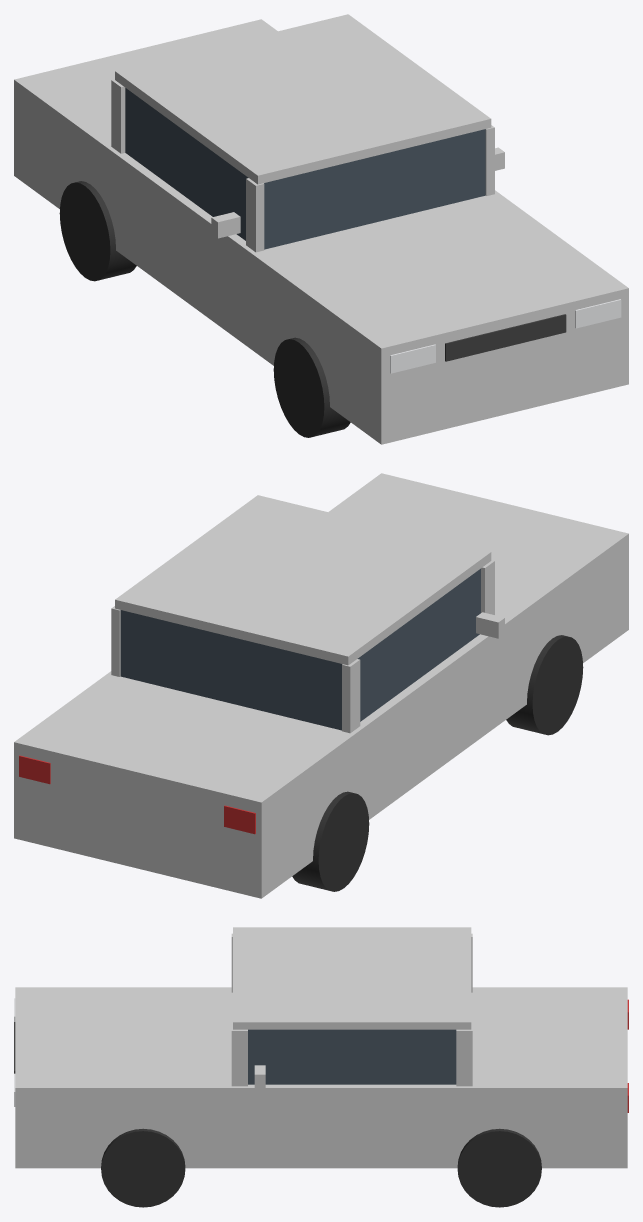
The model's file is placeholder-sedan.glb.
The picture shows the model from 3 angles, top to bottom: view 1: azimuth 30°, elevation 25°; view 2: azimuth 150°, elevation 25°; view 3: azimuth 270°, elevation 25°; orthographic projection. The views are drawn at different scales.
Visible parts, largest first — view 1: lataria, teto, vidros, roda_diant_d, roda_tras_d, grade, coluna_a_d, coluna_c_d, farol_e, farol_d, coluna_a_e, retrovisor_d; view 2: lataria, teto, vidros, roda_tras_d, roda_diant_d, coluna_c_d, coluna_a_d, lanterna_e, lanterna_d, coluna_c_e, retrovisor_d; view 3: lataria, teto, vidros, roda_diant_e, roda_tras_e, coluna_c_e, coluna_a_e.
Boxes of the visible parts, box(x1,y1,x2,y2) form: lataria: box(14, 19, 628, 444); teto: box(115, 14, 491, 184); vidros: box(125, 88, 485, 249); roda_diant_d: box(273, 337, 350, 437); roda_tras_d: box(59, 181, 136, 281); grade: box(445, 314, 566, 361); coluna_a_d: box(246, 178, 264, 252); coluna_c_d: box(111, 79, 125, 153); farol_e: box(575, 299, 621, 328); farol_d: box(390, 344, 435, 373); coluna_a_e: box(485, 125, 494, 195); retrovisor_d: box(211, 212, 240, 238); lataria: box(14, 473, 628, 898); teto: box(115, 495, 491, 665); vidros: box(120, 568, 480, 730); roda_tras_d: box(292, 791, 369, 891); roda_diant_d: box(506, 635, 583, 735); coluna_c_d: box(342, 659, 360, 733); coluna_a_d: box(481, 560, 494, 614); lanterna_e: box(19, 755, 50, 784); lanterna_d: box(224, 805, 255, 834); coluna_c_e: box(111, 606, 120, 676); retrovisor_d: box(476, 612, 504, 638); lataria: box(15, 987, 627, 1168); teto: box(233, 927, 471, 1029); vidros: box(248, 1029, 456, 1084); roda_diant_e: box(101, 1128, 185, 1207); roda_tras_e: box(457, 1128, 541, 1207); coluna_c_e: box(456, 1027, 472, 1086); coluna_a_e: box(231, 1027, 247, 1086).
Bounding box in the file's own units: 2.03 × 1.46 × 4.52.
